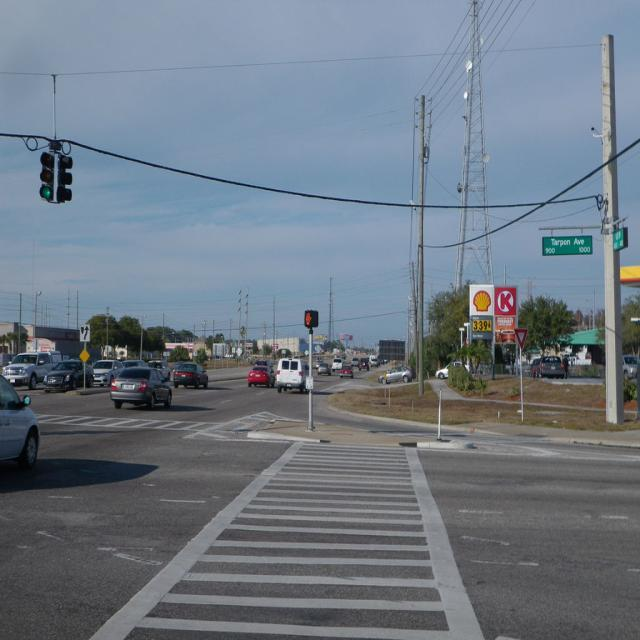off traffic light: (57, 154, 73, 203)
road_sign: (513, 329, 528, 351)
traffic light: (38, 151, 54, 204)
